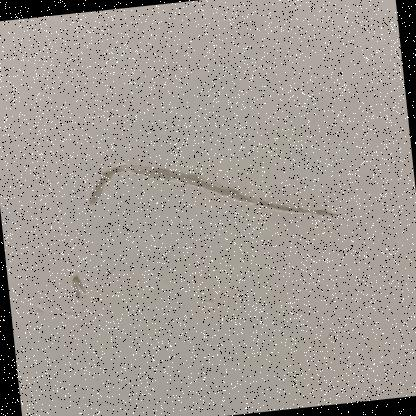Crack: (51, 111, 352, 261), (48, 267, 100, 316)
